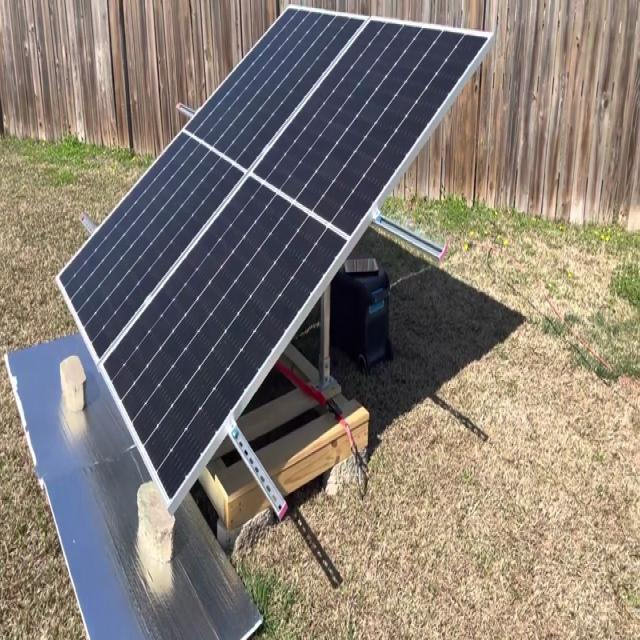Normal Solar Panel: (57, 7, 490, 504)
